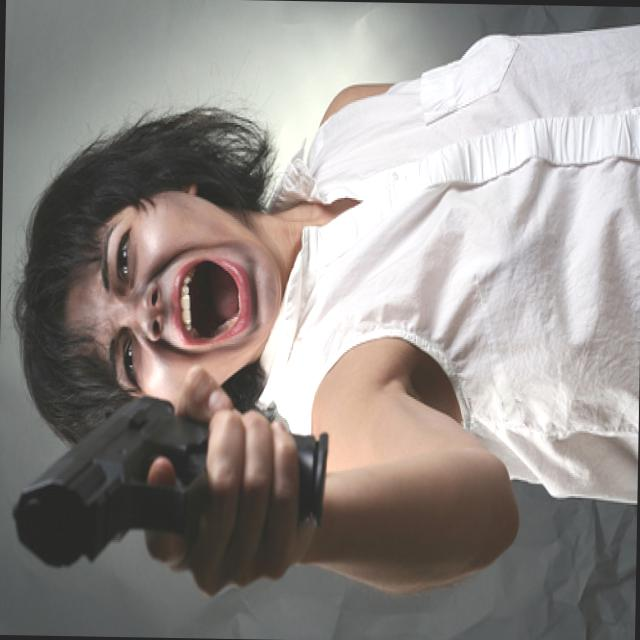handgun: (12, 392, 328, 578)
